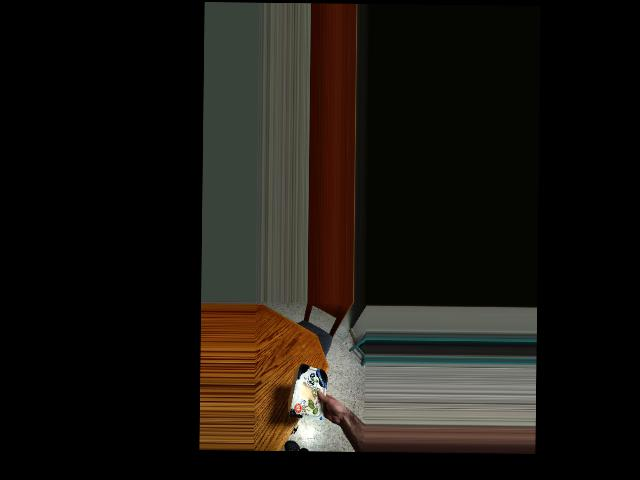cheese: (295, 362, 330, 423)
